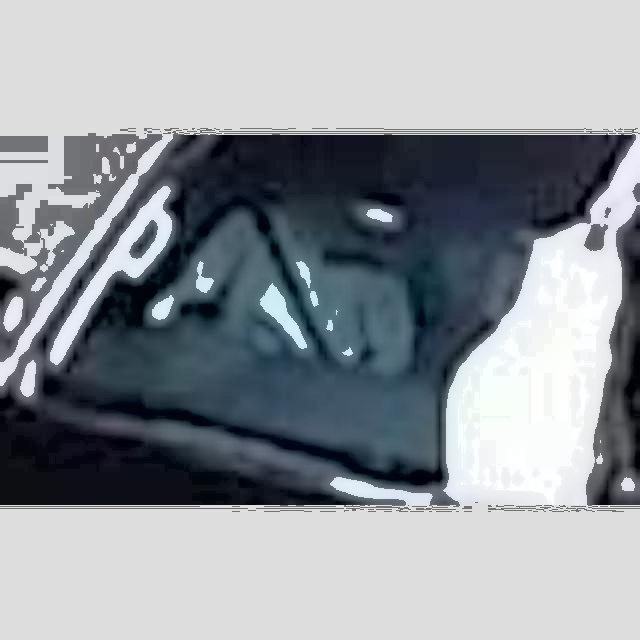pakai: (197, 177, 437, 392)
